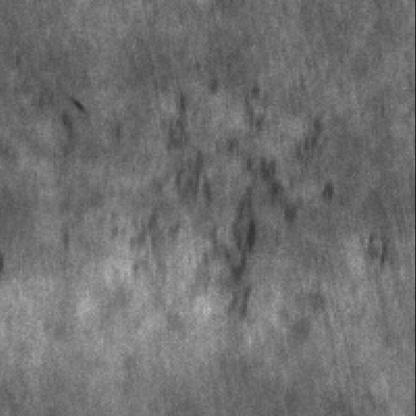rolled-in_scale: (138, 98, 328, 316), (36, 100, 119, 256)
